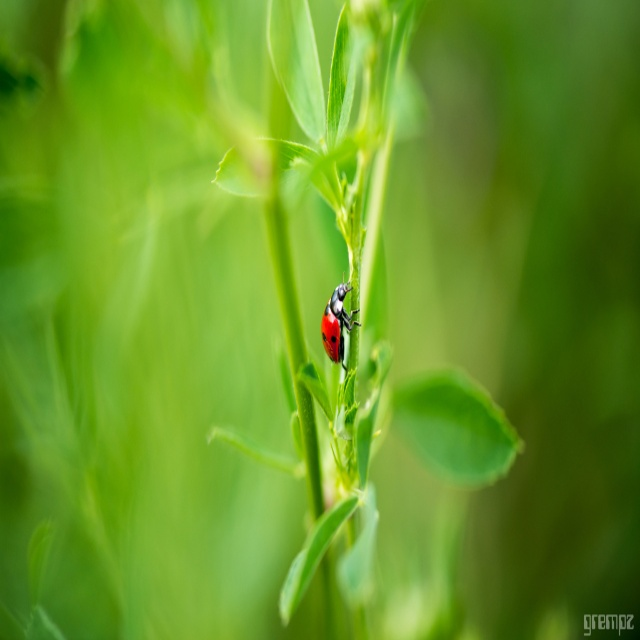Ladybug: (320, 265, 362, 375)
